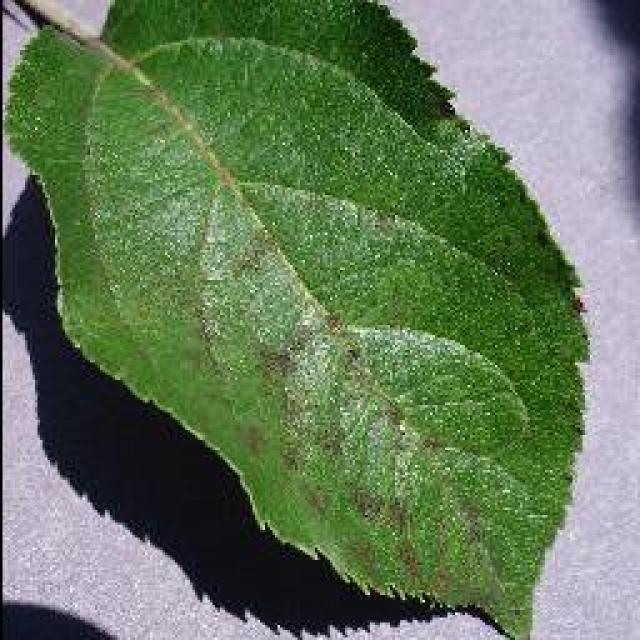apple scab disease: (2, 0, 592, 638)
